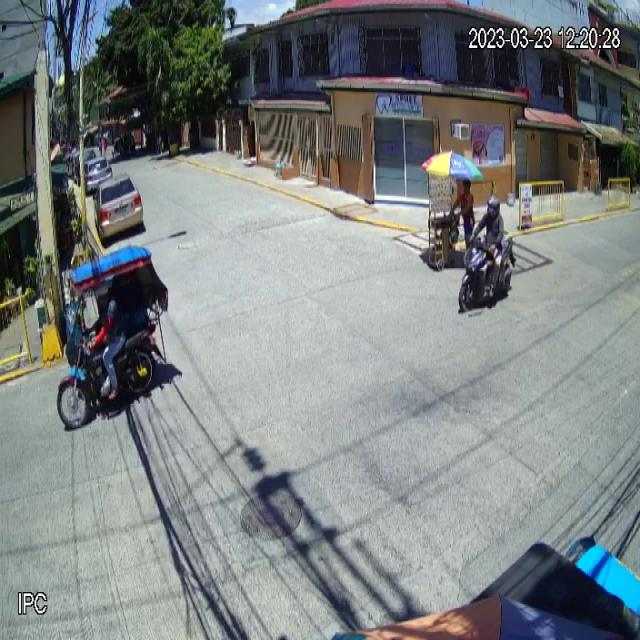Car: (92, 173, 144, 242)
Motorcycle: (458, 235, 516, 312)
Tricycle: (56, 246, 169, 432)
